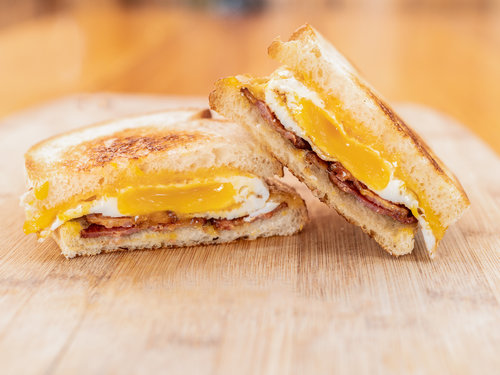slice of bread: (292, 28, 433, 229), (51, 141, 299, 187), (66, 221, 293, 242)
